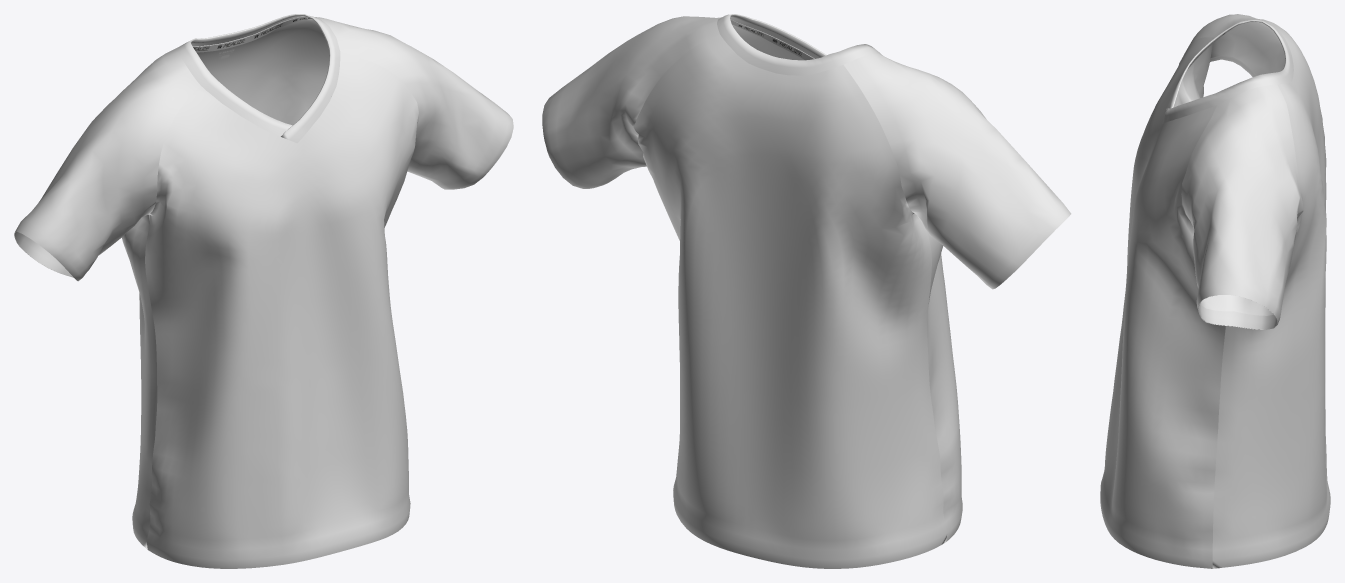
The picture shows the model from 3 angles, left to right: view 1: azimuth 30°, elevation 25°; view 2: azimuth 150°, elevation 25°; view 3: azimuth 270°, elevation 25°; orthographic projection. The views are drawn at different scales.
Parts seen in each view (by area): view 1: model_front, model_sleeve_right, model_sleeve_left, model_inside, model_back, model_collar, model_sweatband; view 2: model_back, model_sleeve_right, model_sleeve_left, model_front, model_collar, model_inside; view 3: model_front, model_back, model_sleeve_left, model_inside, model_collar, model_sleeve_right.
Boxes of the visible parts, x1,y1,x2,y2 form: model_front: (145,52,418,568); model_sleeve_right: (14,47,200,281); model_sleeve_left: (315,17,513,189); model_inside: (192,16,329,125); model_back: (122,214,157,549); model_collar: (178,14,340,143); model_sweatband: (193,17,312,52); model_back: (633,34,947,568); model_sleeve_right: (844,53,1071,289); model_sleeve_left: (542,16,721,188); model_front: (926,230,962,541); model_collar: (717,14,882,75); model_inside: (731,20,814,60); model_front: (1100,37,1225,568); model_back: (1212,29,1330,568); model_sleeve_left: (1181,84,1303,329); model_inside: (1174,22,1285,315); model_collar: (1162,20,1293,123); model_sleeve_right: (1187,14,1284,76).
Size of the model in its own units: 0.7105 by 0.6578 by 0.2959.
Materials: 4 (2 with a texture image).
